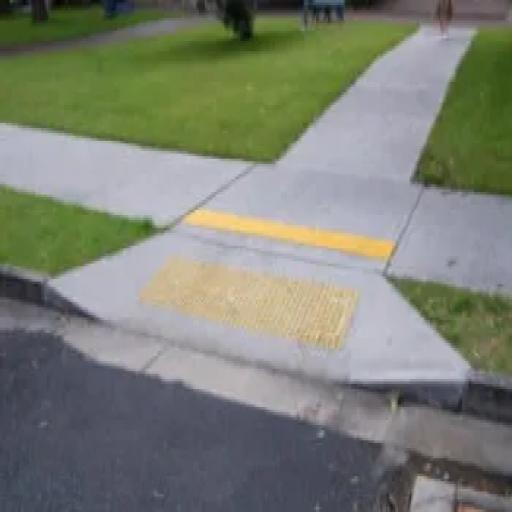kerb_cut: (93, 229, 383, 381)
